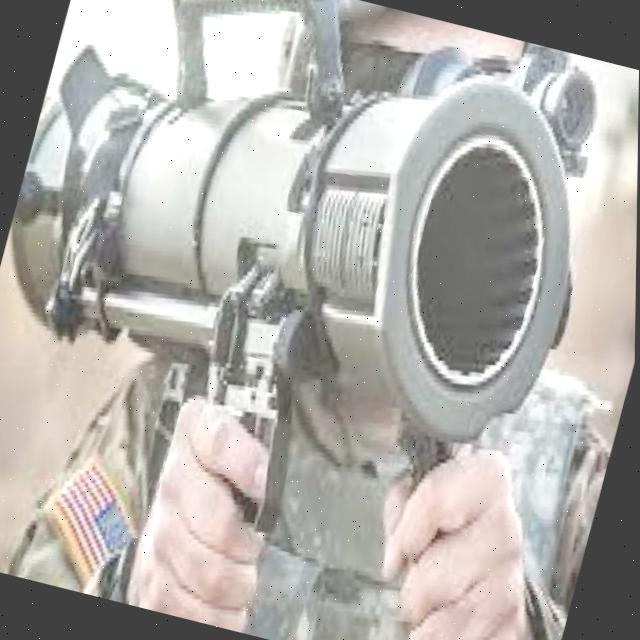rocket: (0, 0, 640, 553)
